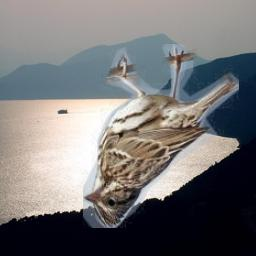Sparrow: (83, 44, 239, 228)
